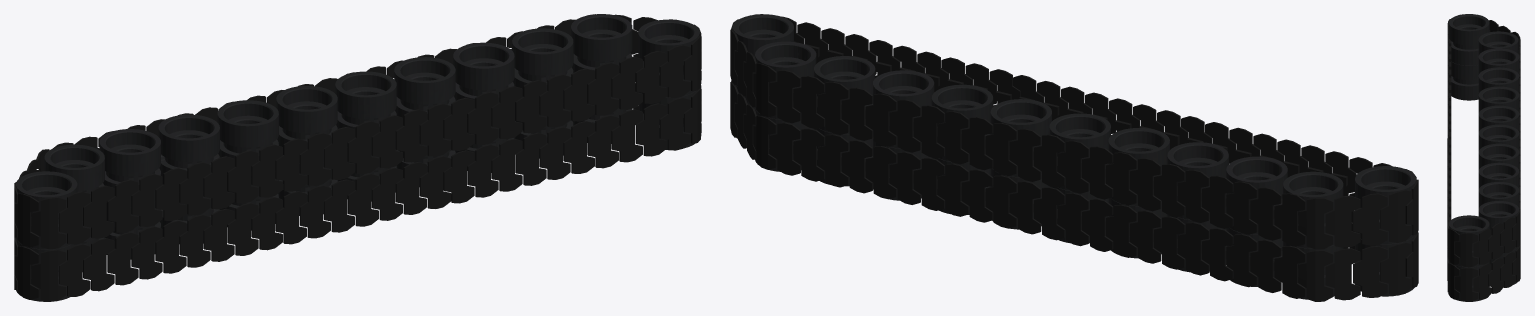
File: Track.glb
The picture shows the model from 3 angles, left to right: view 1: azimuth 30°, elevation 25°; view 2: azimuth 150°, elevation 25°; view 3: azimuth 270°, elevation 25°; orthographic projection. The views are drawn at different scales.
Visible parts, largest first — view 1: Right_track.001, Wheels; view 2: Right_track.001, Wheels; view 3: Wheels, Right_track.001.
Boxes of the visible parts, <box> form: Right_track.001: <box>14,14,701,301</box>; Wheels: <box>16,14,699,301</box>; Right_track.001: <box>730,14,1418,301</box>; Wheels: <box>732,14,1416,299</box>; Wheels: <box>1448,14,1519,301</box>; Right_track.001: <box>1447,14,1520,301</box>.
Bounding box in the file's own units: 0.806 × 0.1187 × 0.1136.
Materials: 2 (1 with a texture image).
